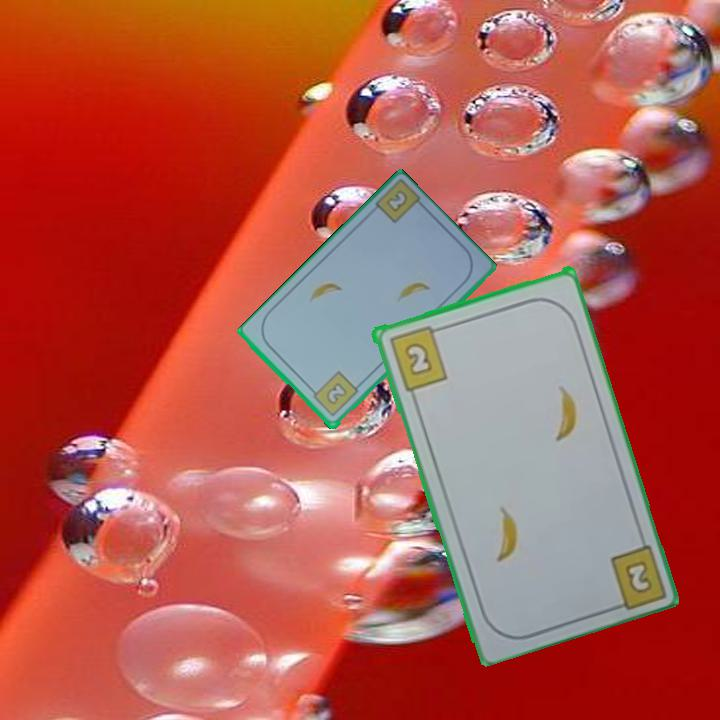2b: (385, 322, 450, 393), (306, 368, 361, 420), (620, 556, 655, 596), (383, 187, 411, 216)
